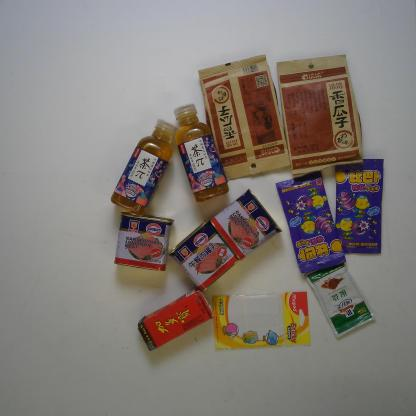Candy: (274, 169, 347, 275), (332, 158, 384, 254)
Canned Food: (208, 187, 283, 263), (167, 217, 240, 293), (113, 211, 175, 272)
Dried Food: (197, 53, 292, 182), (276, 53, 365, 176)
Drink: (110, 118, 178, 216), (173, 102, 229, 203), (136, 287, 215, 352)
Seasoner: (303, 261, 376, 340)
Stationery: (211, 290, 312, 352)
